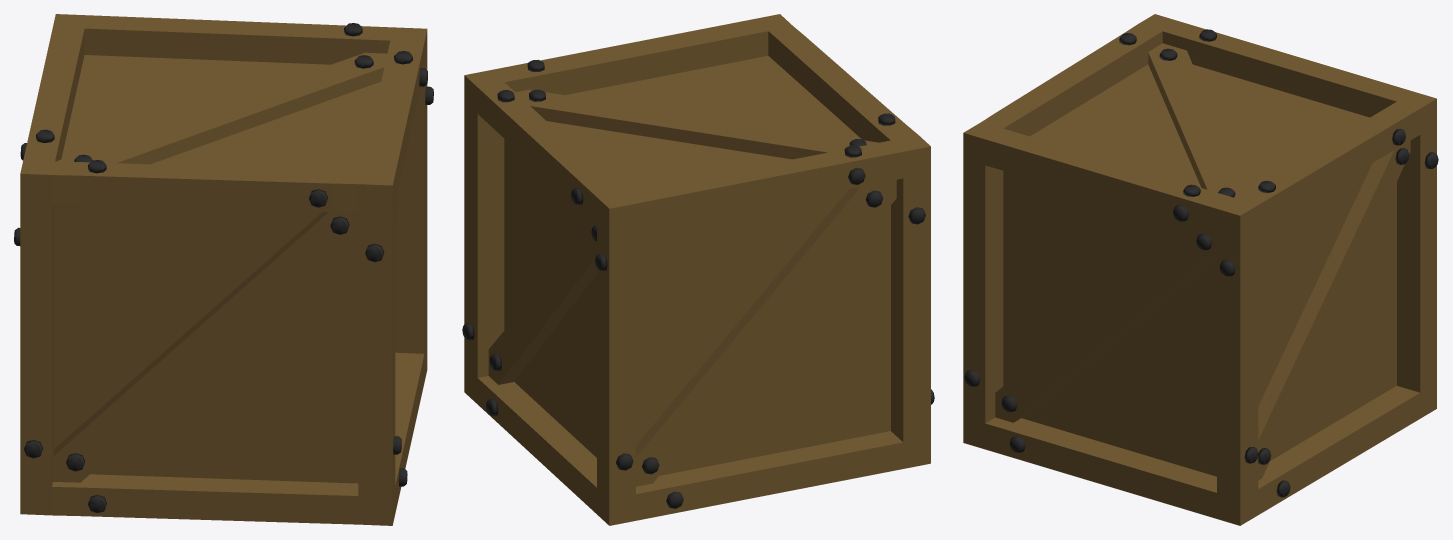
File: kutuorta.fbx
3 renders of one model, left to right at view 1: azimuth 30°, elevation 25°; view 2: azimuth 150°, elevation 25°; view 3: azimuth 270°, elevation 25°, orthographic. The views are drawn at different scales.
Visible parts, largest first — view 1: Cube.143; view 2: Cube.143; view 3: Cube.143.
Part boxes in pixels (x1,y1,x2,y2): Cube.143: (14, 14, 433, 525); Cube.143: (462, 14, 934, 525); Cube.143: (963, 14, 1438, 525).
Size of the model in its own units: 51.41 by 37.48 by 51.06.
